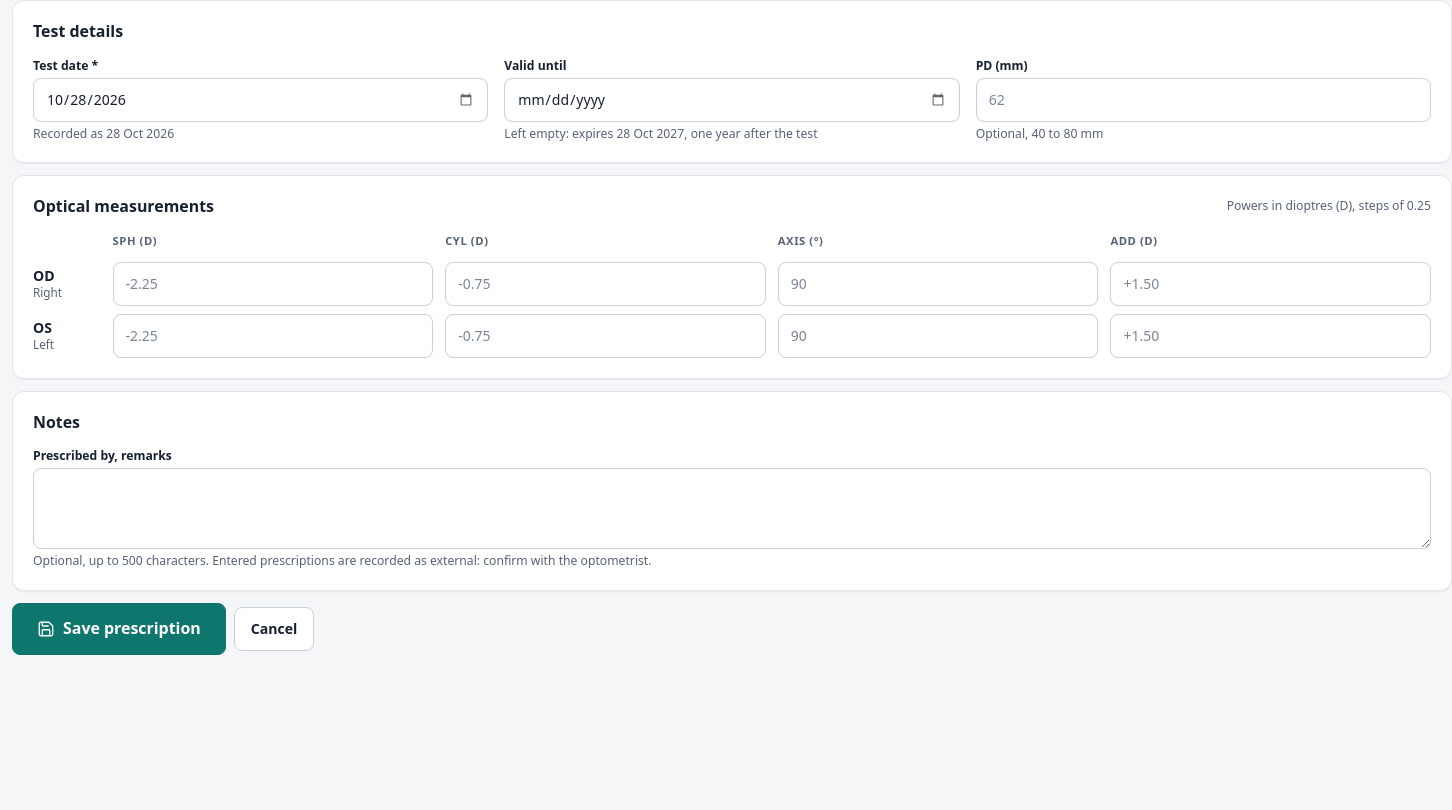
Scenario: PrescriptionForm › flags values off the 0.25 grid and an axis out of range
Type "-2.1" into the field named "Right eye (OD) SPH" at [273, 284], box top-left (112, 262), bottom-right (433, 306)
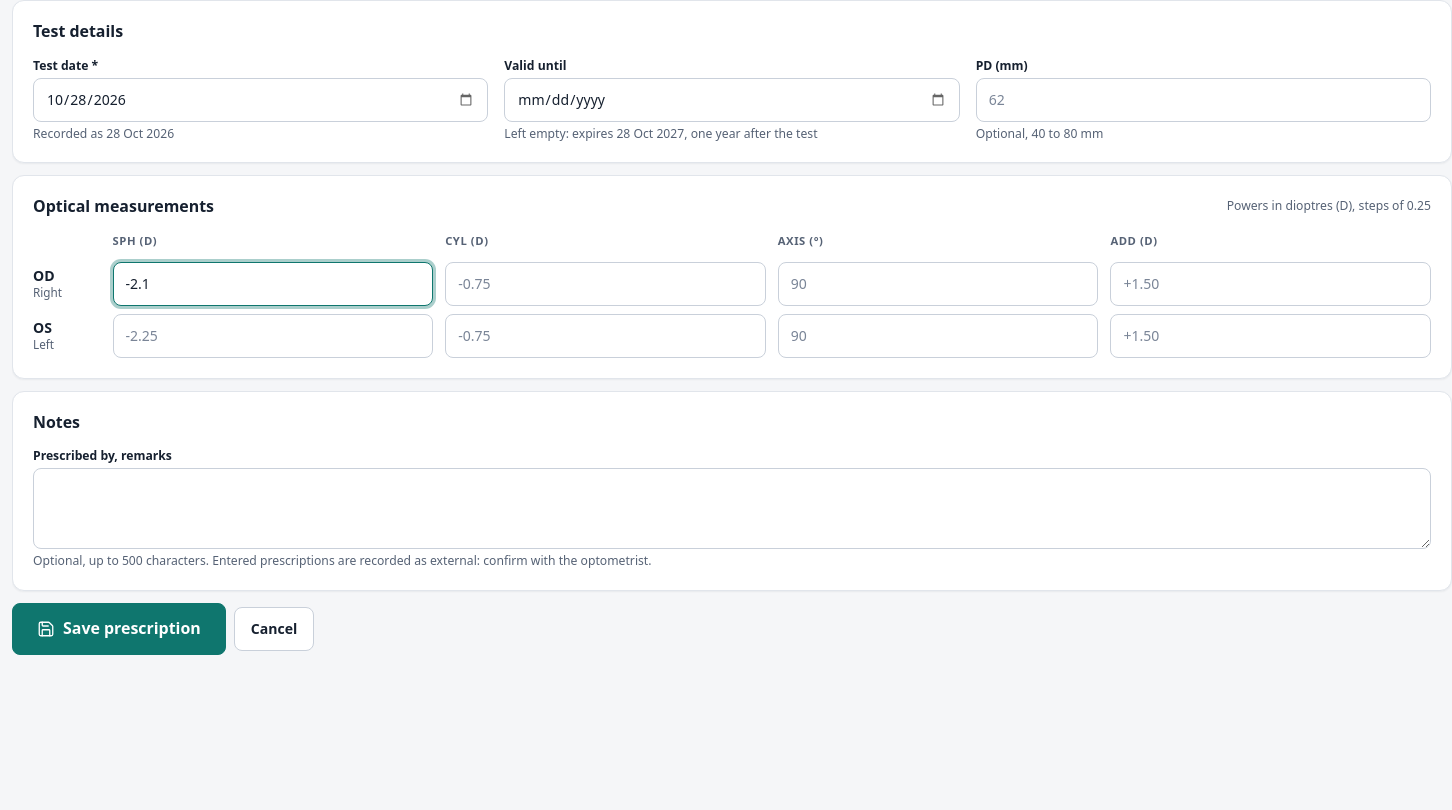
Type "-1" into the field named "Right eye (OD) CYL" at [605, 284], box top-left (445, 262), bottom-right (766, 306)
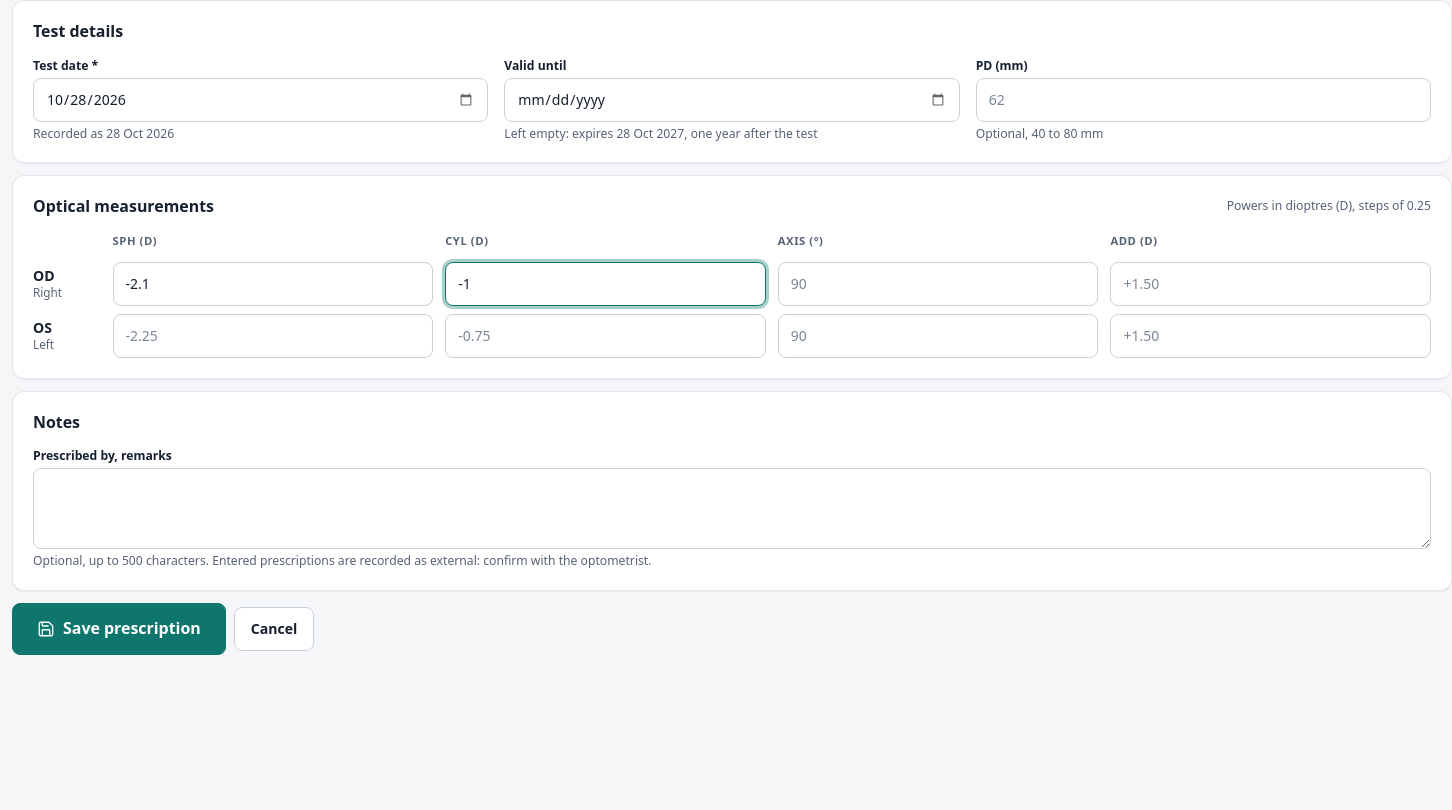
Type "200" into the field named "Right eye (OD) AXIS" at [938, 284], box top-left (778, 262), bottom-right (1098, 306)
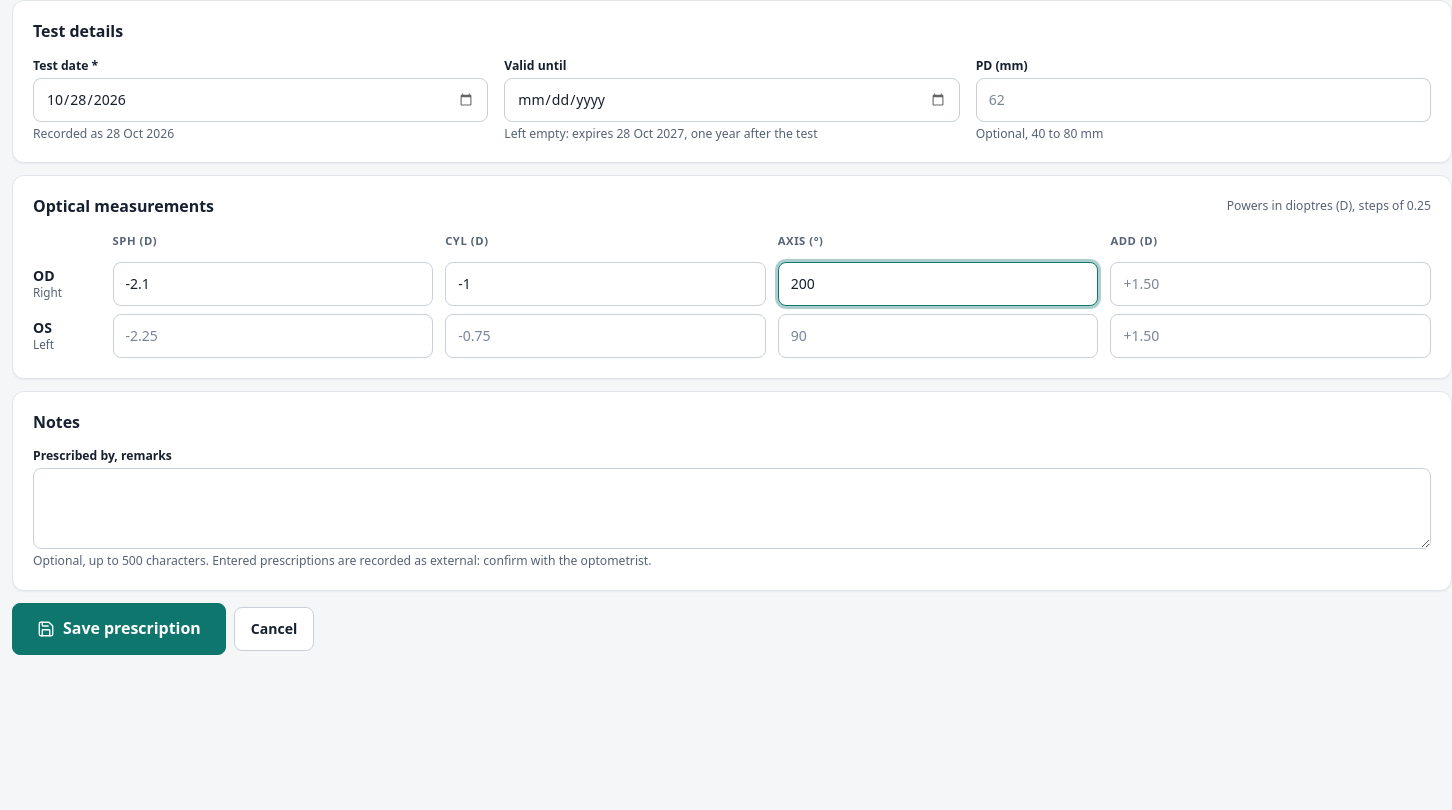
Type "0" into the field named "Left eye (OS) SPH" at [273, 336], box top-left (112, 314), bottom-right (433, 358)
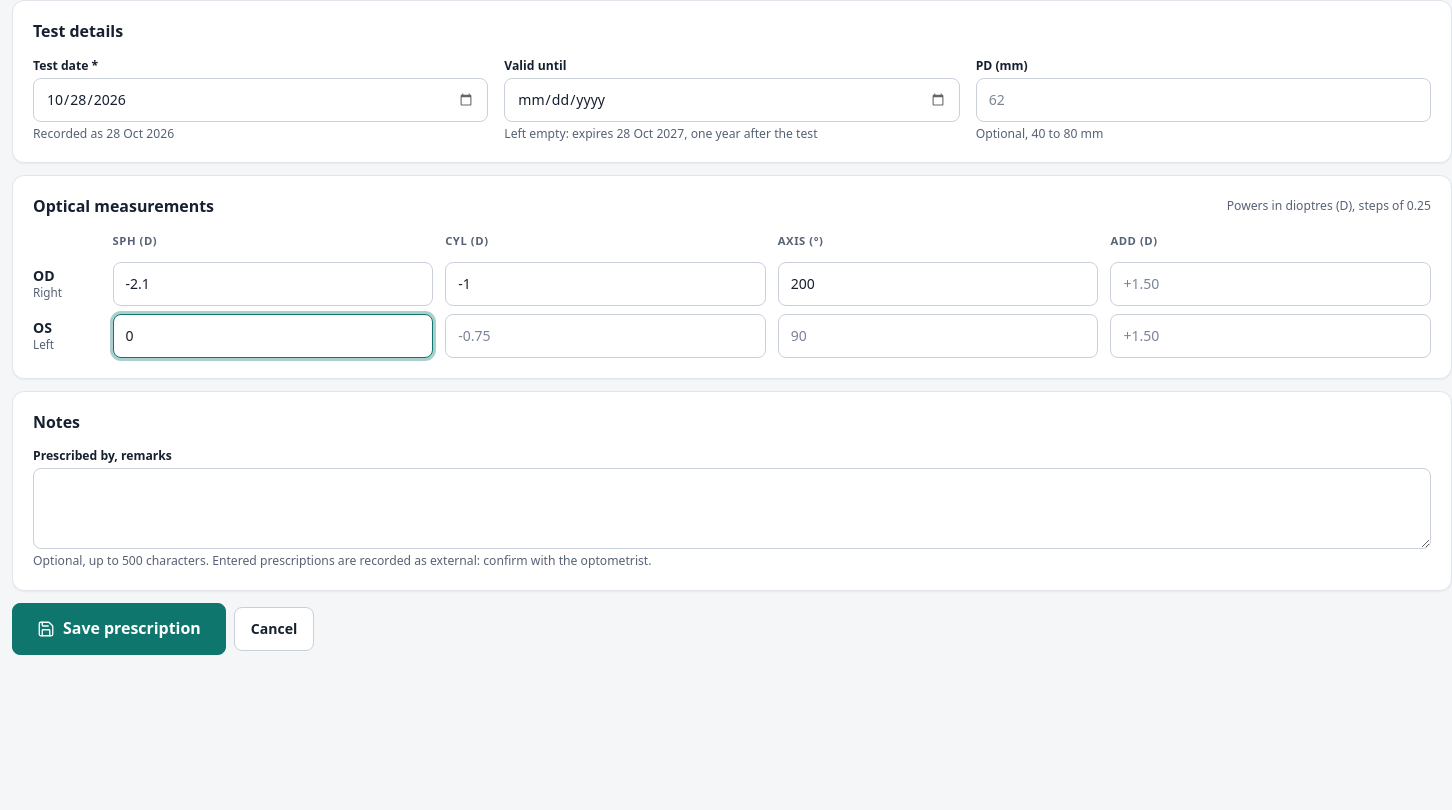
Click the button "Save prescription" at [119, 629], box top-left (12, 603), bottom-right (226, 655)
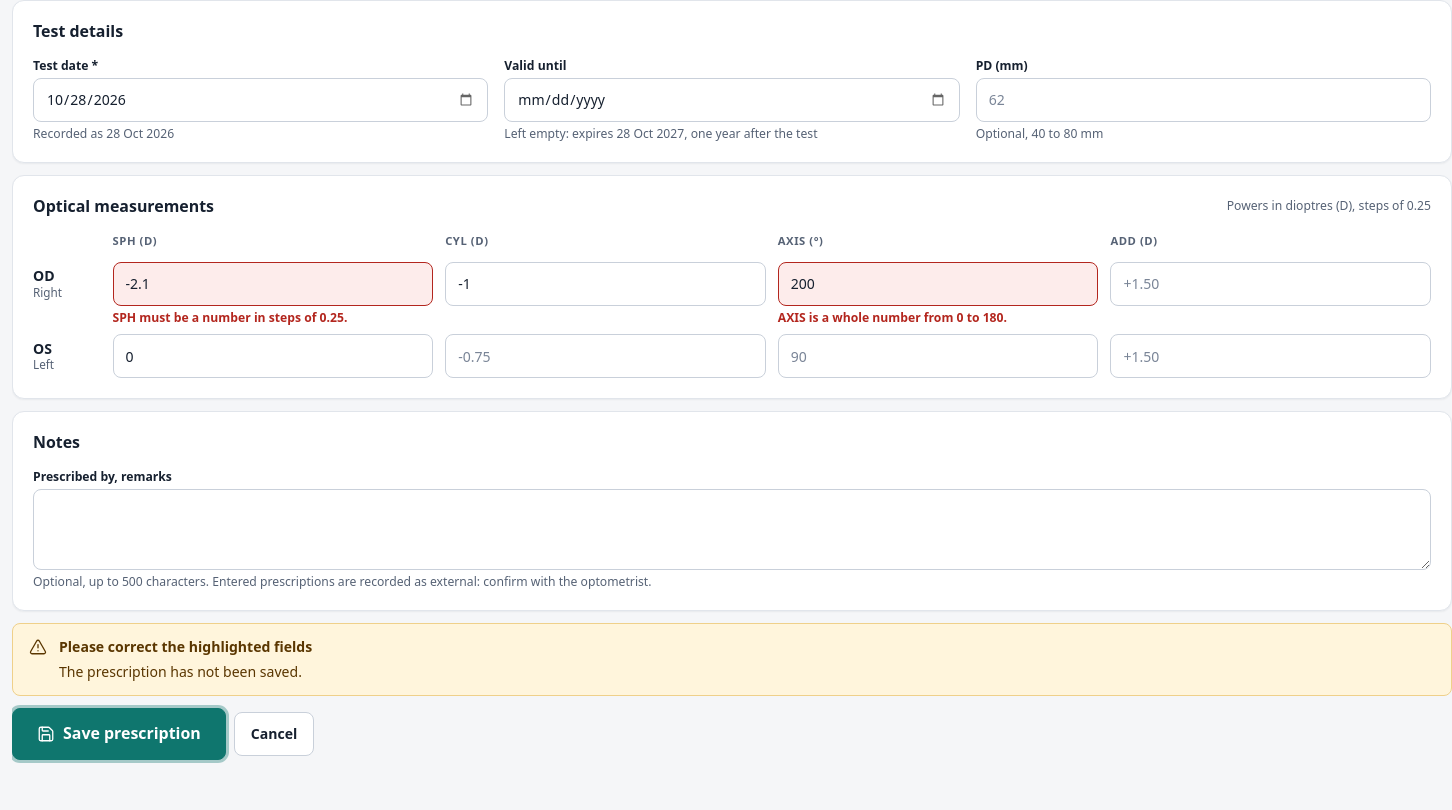
Now the text "SPH must be a number in steps of 0.25." is shown, box top-left (112, 309), bottom-right (348, 326)
Now the text "AXIS is a whole number from 0 to 180." is shown, box top-left (778, 309), bottom-right (1007, 326)
